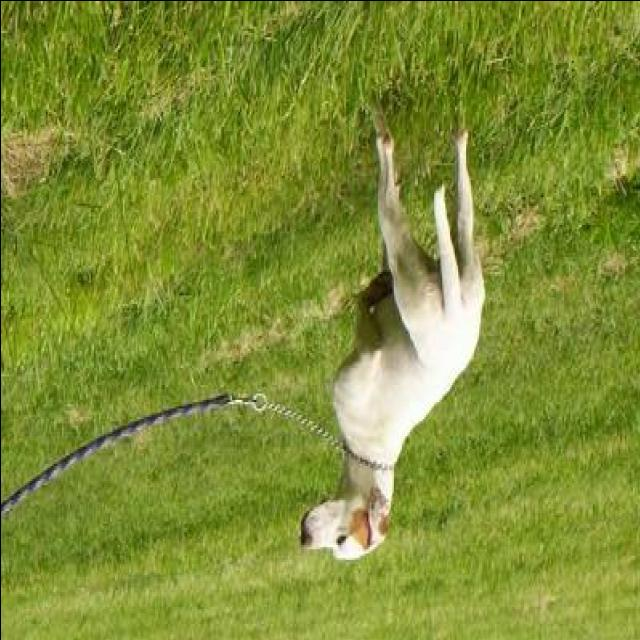dog: (260, 90, 507, 570)
